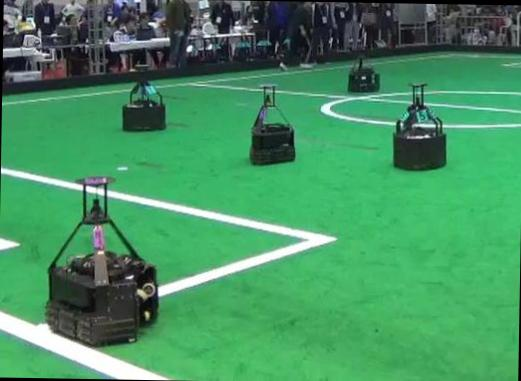robot: (46, 175, 158, 344), (393, 83, 445, 168), (250, 84, 295, 163), (121, 63, 165, 130), (347, 58, 380, 91)
